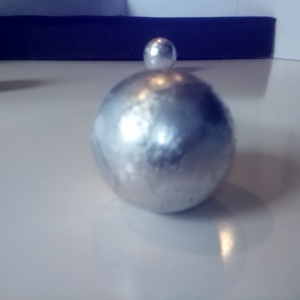zone: (1, 15, 276, 61)
